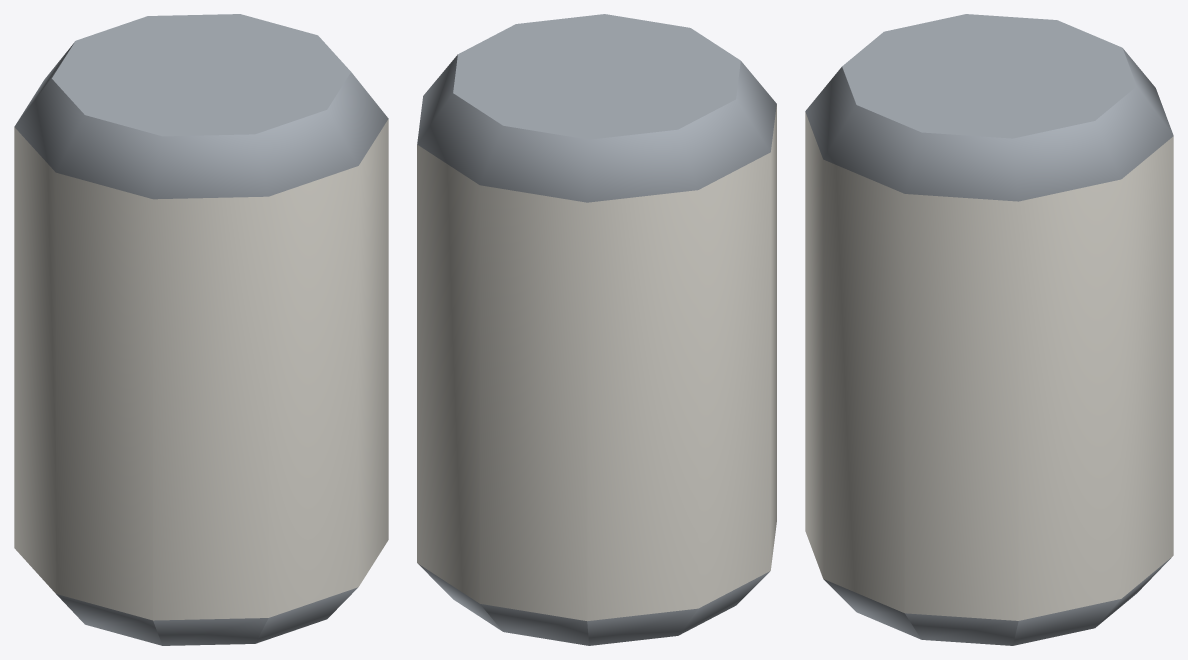
Rendered from Lata.fbx.
3 renders of one model, left to right at view 1: azimuth 30°, elevation 25°; view 2: azimuth 150°, elevation 25°; view 3: azimuth 270°, elevation 25°, orthographic.
Parts seen in each view (by area): view 1: Lata; view 2: Lata; view 3: Lata.
Part boxes in pixels (box(x1,y1,x2,y2)): Lata: box(14, 14, 388, 645); Lata: box(417, 14, 776, 645); Lata: box(805, 14, 1173, 645).
Bounding box in the file's own units: 0.4938 × 0.75 × 0.4938.
1 material, 1 textured.
